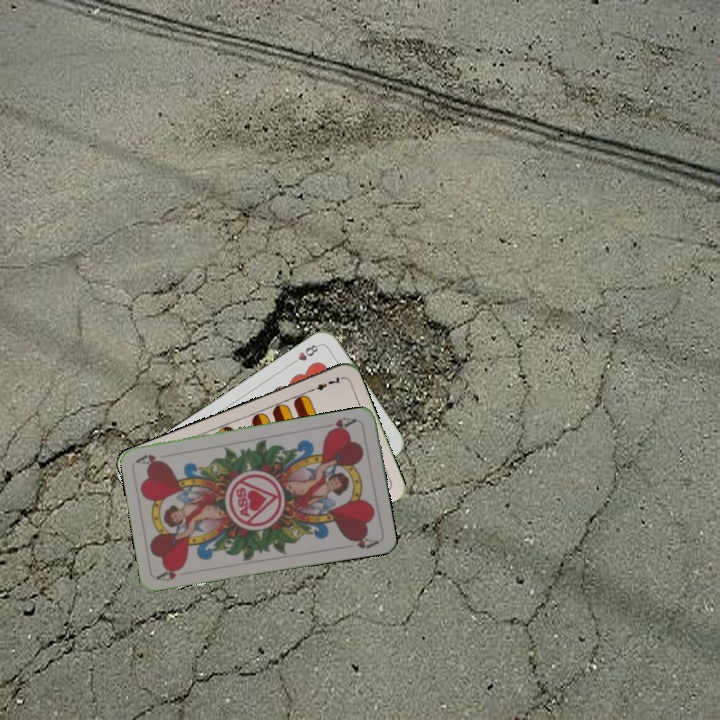E7: (306, 373, 345, 394)
H8: (286, 340, 323, 368)
HA: (323, 413, 359, 436), (154, 562, 186, 584)
